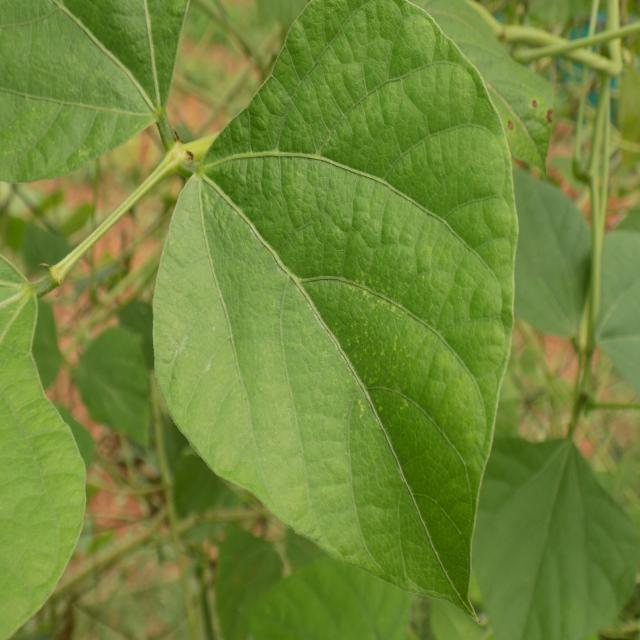Dolicos bean_healthy: (149, 0, 515, 626)
